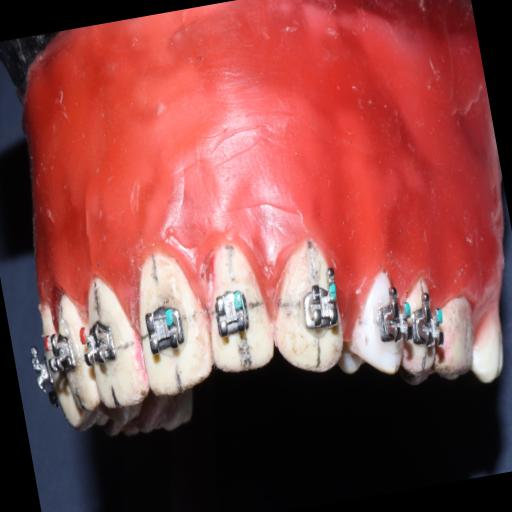incorrect_brace: (196, 240, 278, 372), (210, 288, 256, 340), (300, 282, 340, 330)
